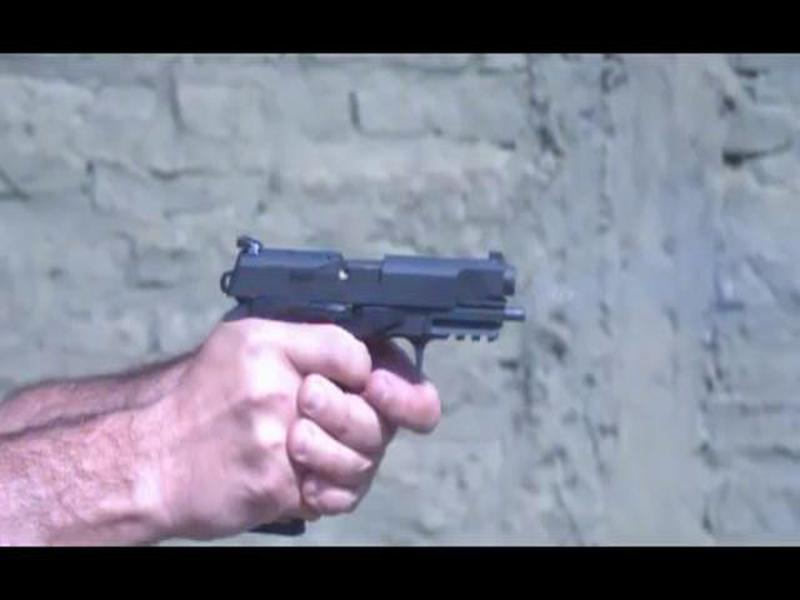Pistola: (185, 224, 530, 542)
